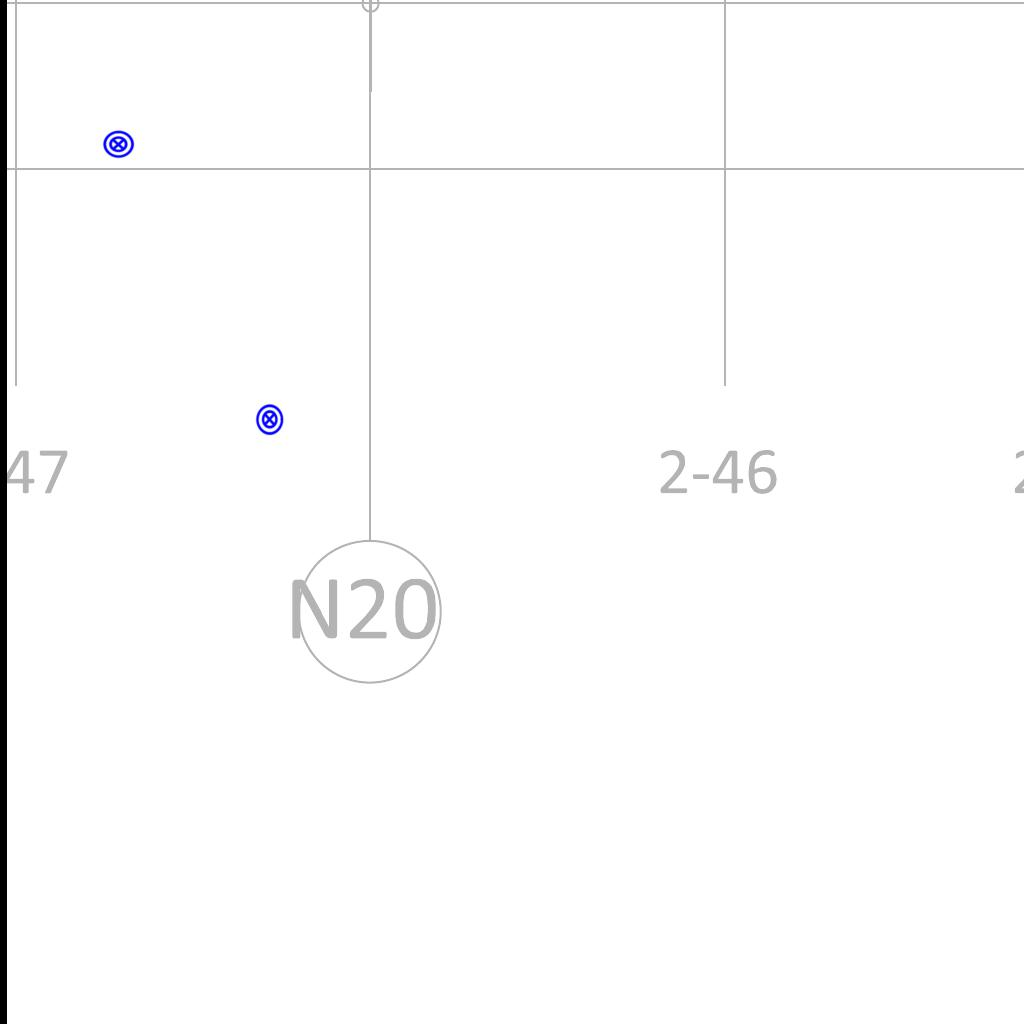Taster_beleuchtet: (253, 403, 286, 436), (102, 128, 135, 161)
